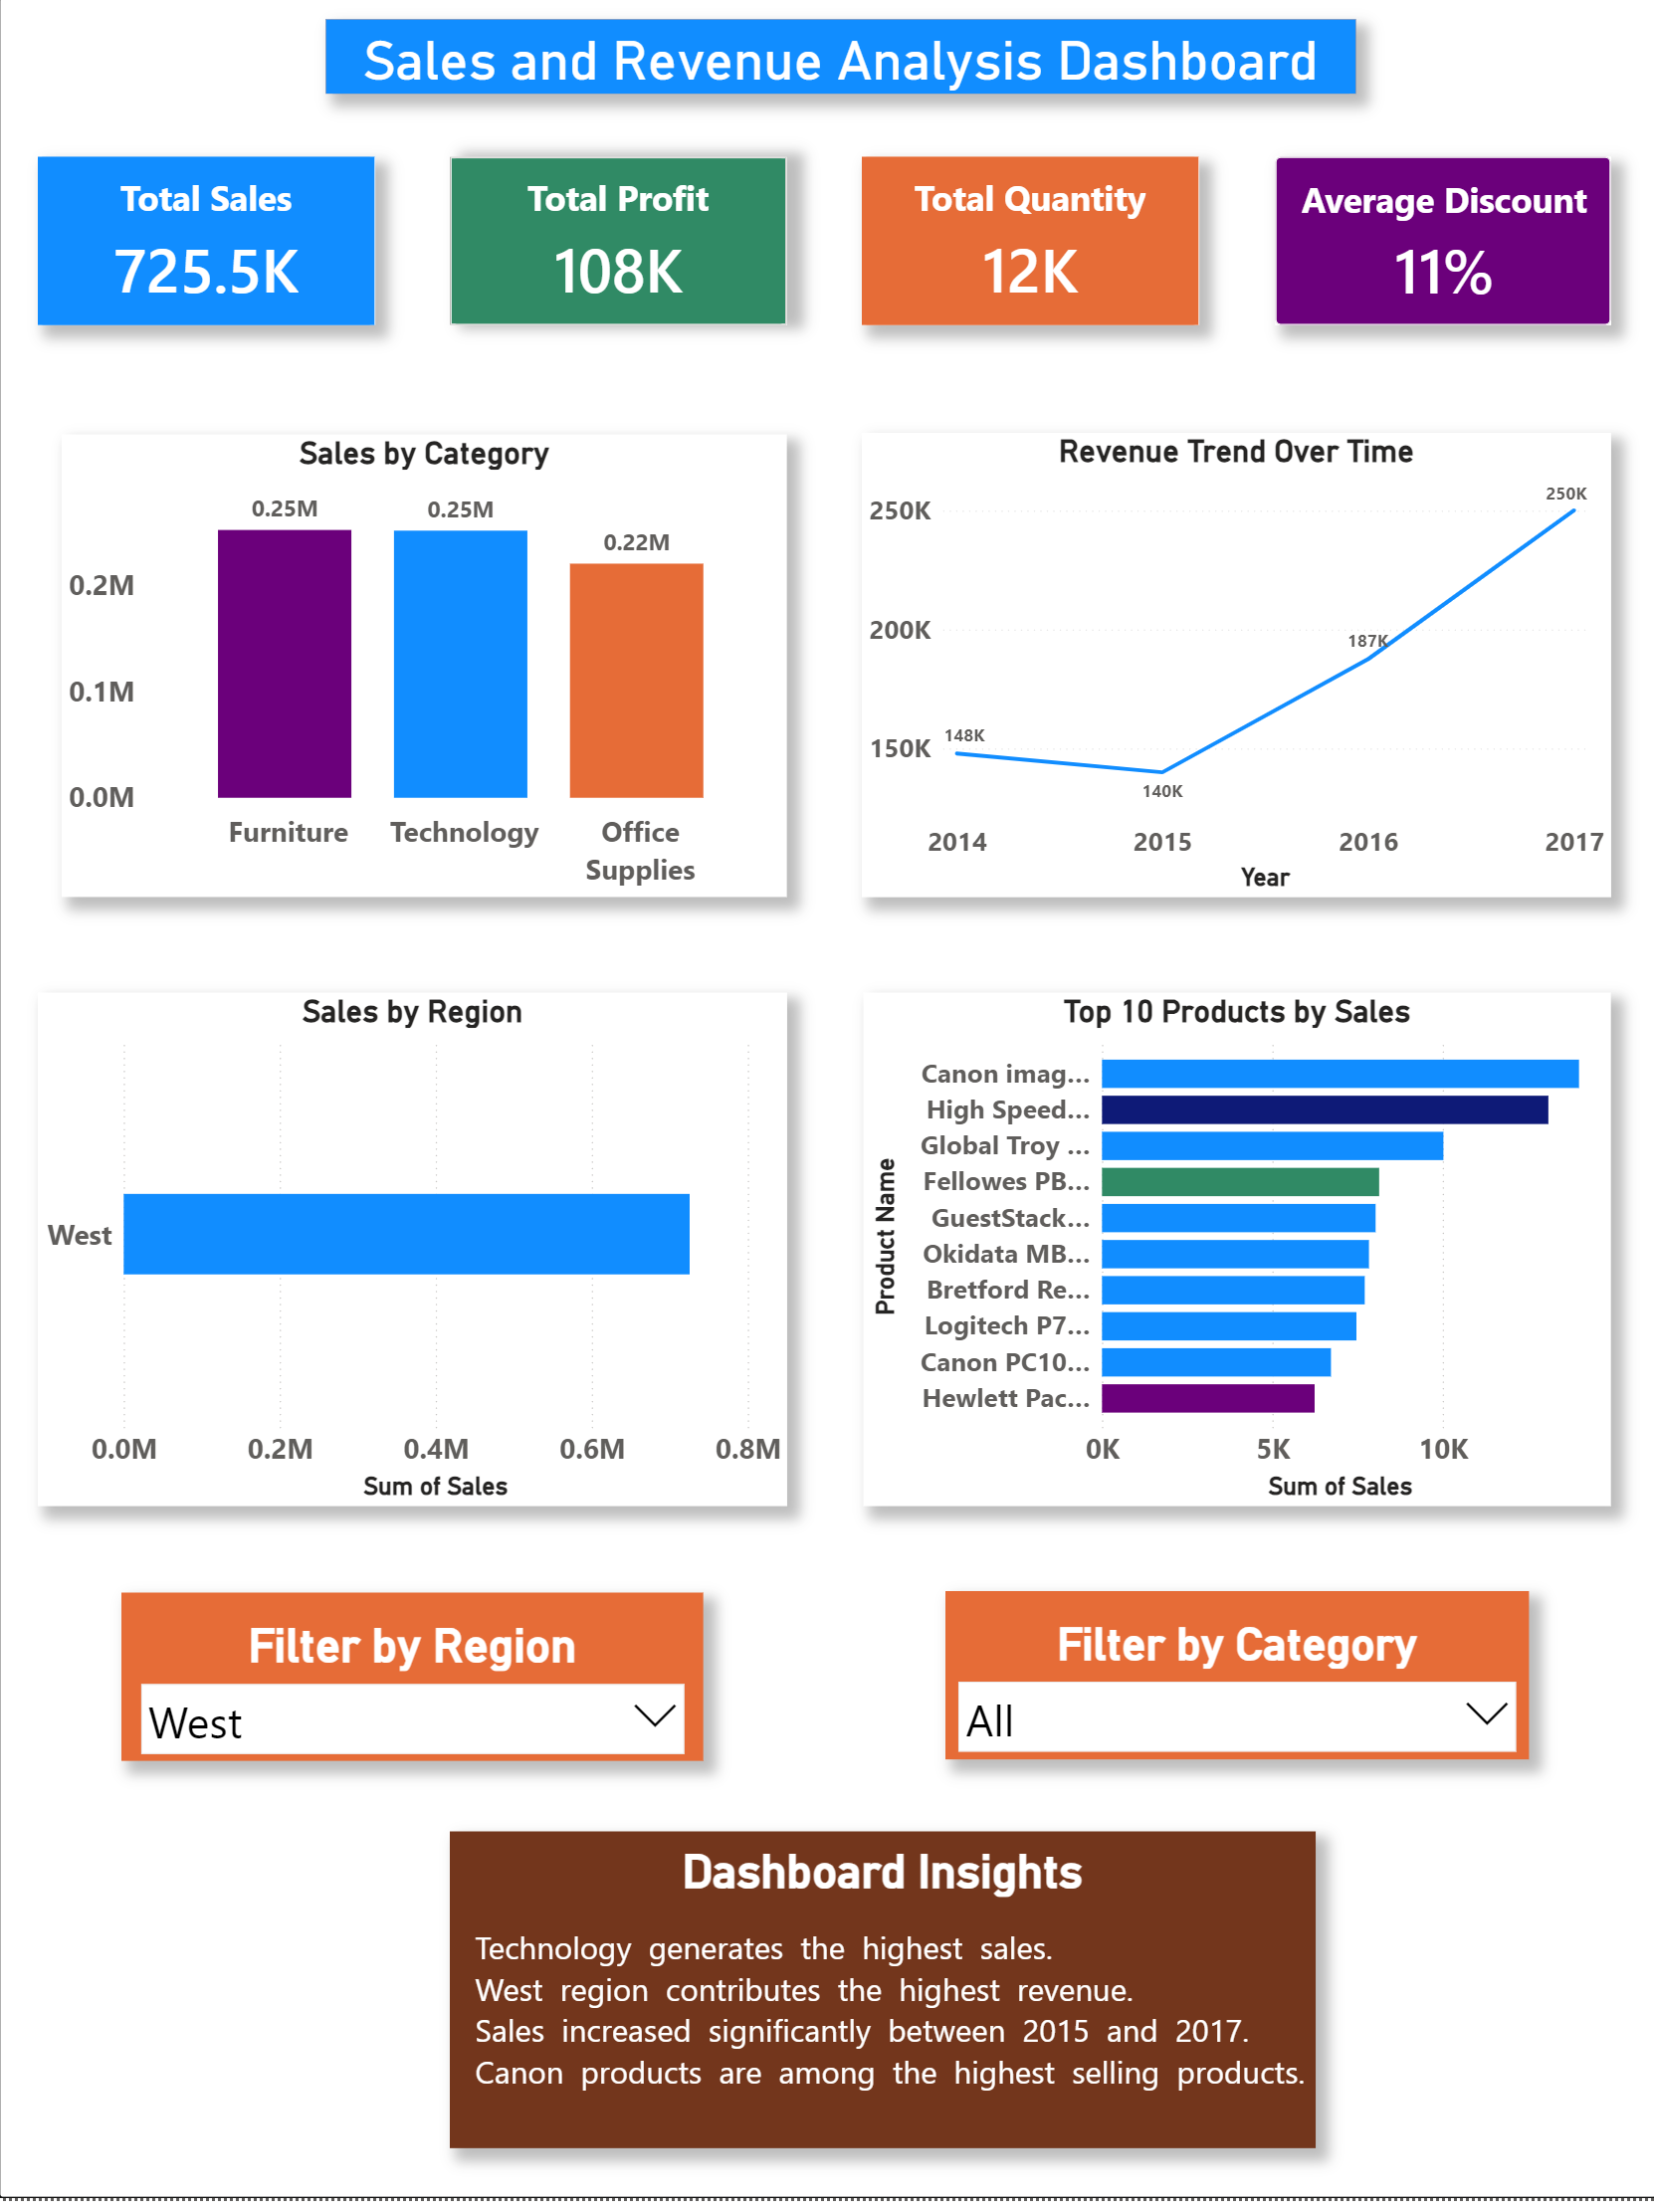

This screenshot's page, from the dashboard's own definition file:
{"tool":"powerbi","page":{"name":"Page 1","canvas":[1280,1700],"ordinal":0},"visuals":[{"type":"cardVisual","title":"Total Sales","fields":{"Data":["Sum(Sales_Data.Sales)"]},"box":[30,123.4,260.5,130.3],"z":0},{"type":"cardVisual","fields":{"Data":["Sum(Sales_Data.Profit)"]},"box":[348.1,123.4,260.5,130.3],"z":1000},{"type":"cardVisual","fields":{"Data":["Sum(Sales_Data.Quantity)"]},"box":[666.3,123.4,260.5,130.3],"z":2000},{"type":"cardVisual","fields":{"Data":["Avg(Sales_Data.Discount)"]},"box":[985.6,123.4,259.4,130.3],"z":3000},{"type":"textbox","title":"Sales and Revenue Analysis Dashboard","box":[252.2,17.3,795.1,57.1],"z":4000},{"type":"clusteredColumnChart","title":"Sales by Category","fields":{"Category":["Sales_Data.Category"],"Y":["Sum(Sales_Data.Sales)"]},"box":[48.4,337.8,560.3,357.4],"z":5000},{"type":"lineChart","title":"Revenue Trend Over Time","fields":{"Category":["Sales_Data.Order Date.Variation.Date Hierarchy.Year","Sales_Data.Order Date.Variation.Date Hierarchy.Quarter","Sales_Data.Order Date.Variation.Date Hierarchy.Month","Sales_Data.Order Date.Variation.Date Hierarchy.Day"],"Y":["Sum(Sales_Data.Sales)"]},"box":[666.3,336.6,578.7,358.5],"z":6000},{"type":"clusteredBarChart","title":"Sales by Region","fields":{"Category":["Sales_Data.Region"],"Y":["Sum(Sales_Data.Sales)"]},"box":[30.4,769.3,579,396.6],"z":7000},{"type":"clusteredBarChart","title":"Top 10 Products by Sales","fields":{"Category":["Sales_Data.Product Name"],"Y":["Sum(Sales_Data.Sales)"]},"box":[666.9,769.3,577.4,396.6],"z":8000},{"type":"slicer","title":"Filter by Region","fields":{"Values":["Sales_Data.Region"]},"box":[94.5,1232.4,449.6,130.3],"z":9000},{"type":"slicer","title":"Filter by Category","fields":{"Values":["Sales_Data.Category"]},"box":[730.9,1231.2,450.7,130.3],"z":10000},{"type":"textbox","title":"Dashboard Insights","box":[348.8,1417.1,697.6,244],"z":11000}]}

Visuals, with their boxes in screenshot pixels (x1, y1, x2, y2), scaled from the page's 1280x1700 canvas onto the 1654x2212 screenshot:
"Total Sales" cardVisual: (39, 160, 375, 330)
cardVisual - Sum(Sales_Data.Profit): (450, 160, 786, 330)
cardVisual - Sum(Sales_Data.Quantity): (861, 160, 1197, 330)
cardVisual - Avg(Sales_Data.Discount): (1274, 160, 1609, 330)
"Sales and Revenue Analysis Dashboard" textbox: (325, 23, 1353, 97)
"Sales by Category" clusteredColumnChart: (63, 440, 786, 905)
"Revenue Trend Over Time" lineChart: (861, 438, 1609, 905)
"Sales by Region" clusteredBarChart: (39, 1001, 787, 1517)
"Top 10 Products by Sales" clusteredBarChart: (862, 1001, 1608, 1517)
"Filter by Region" slicer: (122, 1604, 703, 1773)
"Filter by Category" slicer: (944, 1602, 1527, 1771)
"Dashboard Insights" textbox: (451, 1844, 1352, 2161)
